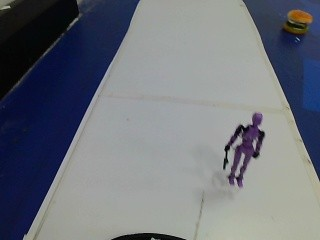burger: (282, 8, 312, 35)
pedestrian: (216, 108, 268, 196)
